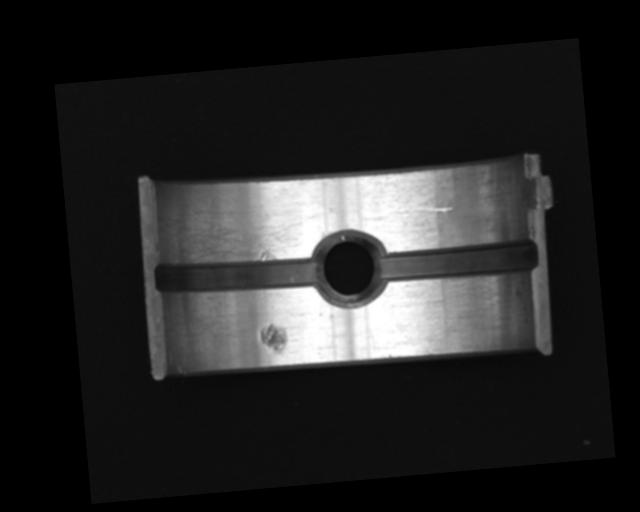bruise: (258, 321, 289, 356)
gap: (153, 248, 324, 301), (375, 235, 538, 285)
hole: (315, 227, 388, 310)
nick: (397, 201, 454, 216)
scratch: (162, 192, 319, 271)
